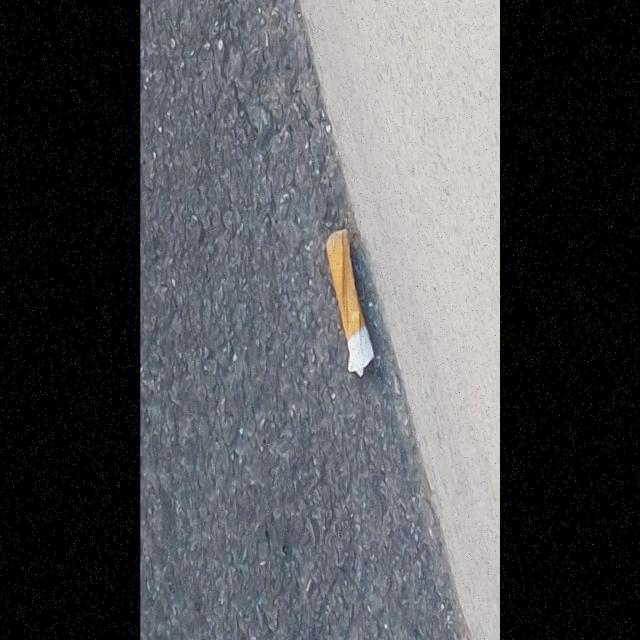other waste: (325, 228, 375, 378)
